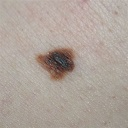Melanoma: (46, 49, 76, 74)
